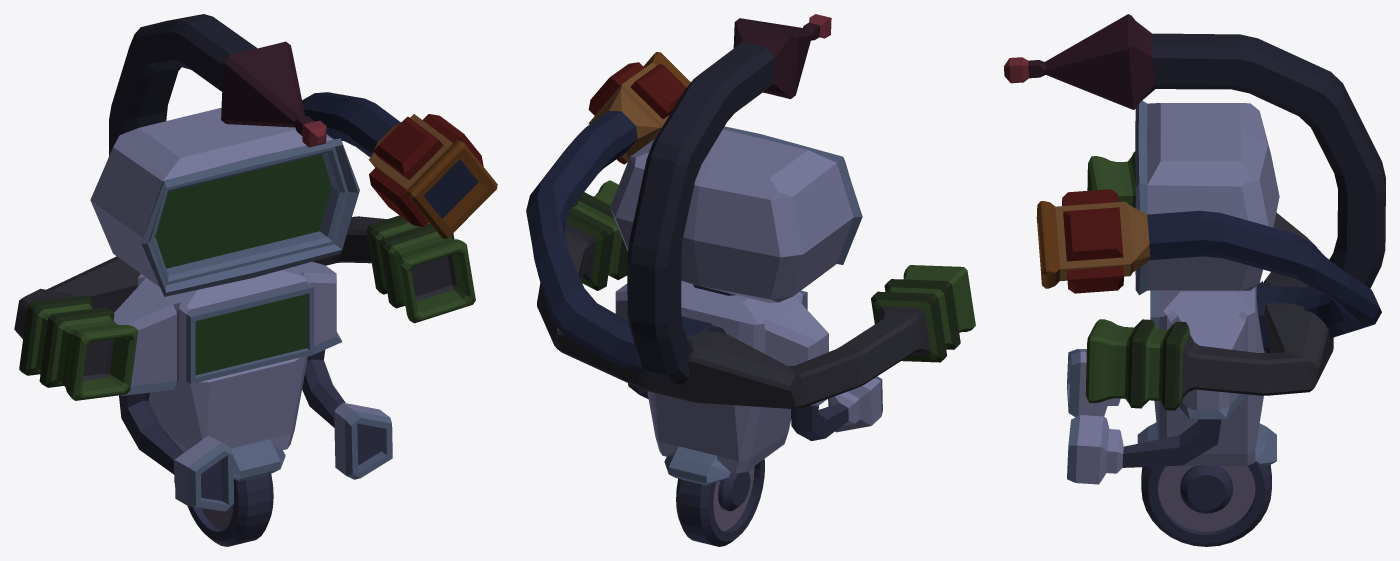
The model's file is robot.fbx.
The picture shows the model from 3 angles, left to right: view 1: azimuth 30°, elevation 25°; view 2: azimuth 150°, elevation 25°; view 3: azimuth 270°, elevation 25°; orthographic projection. The views are drawn at different scales.
Parts seen in each view (by area): view 1: Robot, DualLauncher, LaserLauncher, RocketLauncher; view 2: Robot, DualLauncher, LaserLauncher, RocketLauncher; view 3: Robot, LaserLauncher, RocketLauncher, DualLauncher.
Boxes of the visible parts, x1,y1,x2,y2 form: Robot: (90,107,392,546); DualLauncher: (14,215,475,400); LaserLauncher: (109,14,326,155); RocketLauncher: (302,92,497,238); Robot: (610,126,882,546); DualLauncher: (537,180,975,409); LaserLauncher: (627,14,831,384); RocketLauncher: (526,52,712,374); Robot: (1067,100,1279,546); LaserLauncher: (1004,14,1385,288); RocketLauncher: (1036,189,1381,351); DualLauncher: (1085,151,1333,410).
Size of the model in its own units: 994 by 1168 by 794.
